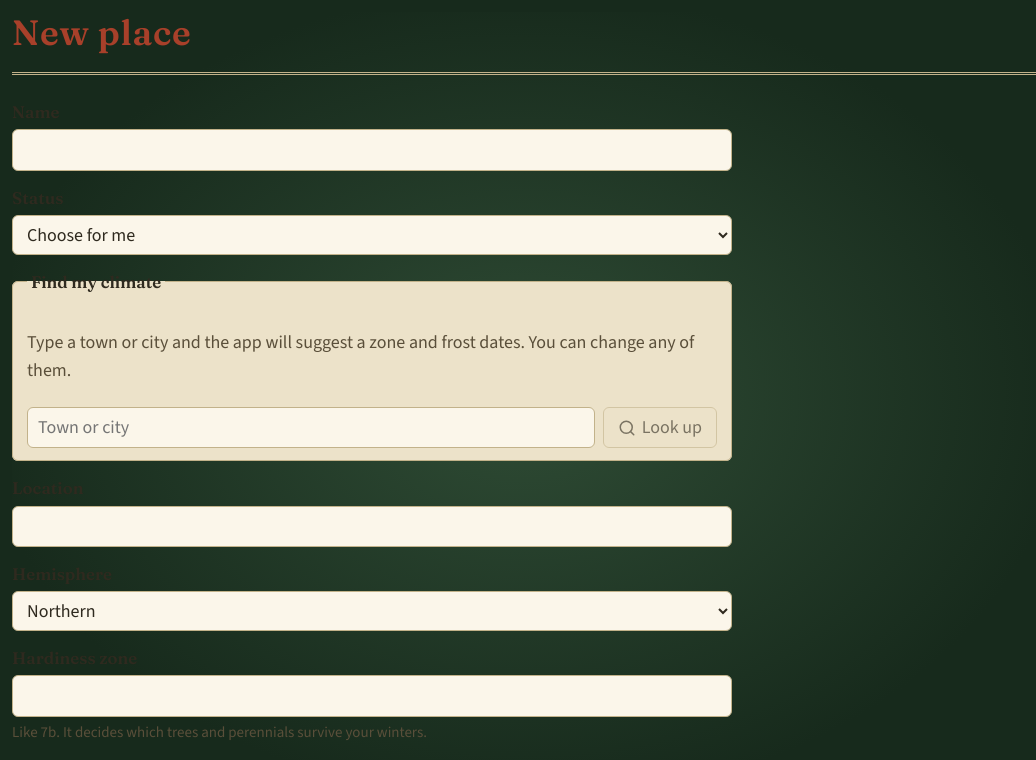
Test case: place form › several results are listed with region and country
Type "Springfield" into the field labelled "Town or city" at {"x": 311, "y": 428}, box [27,407,595,448]
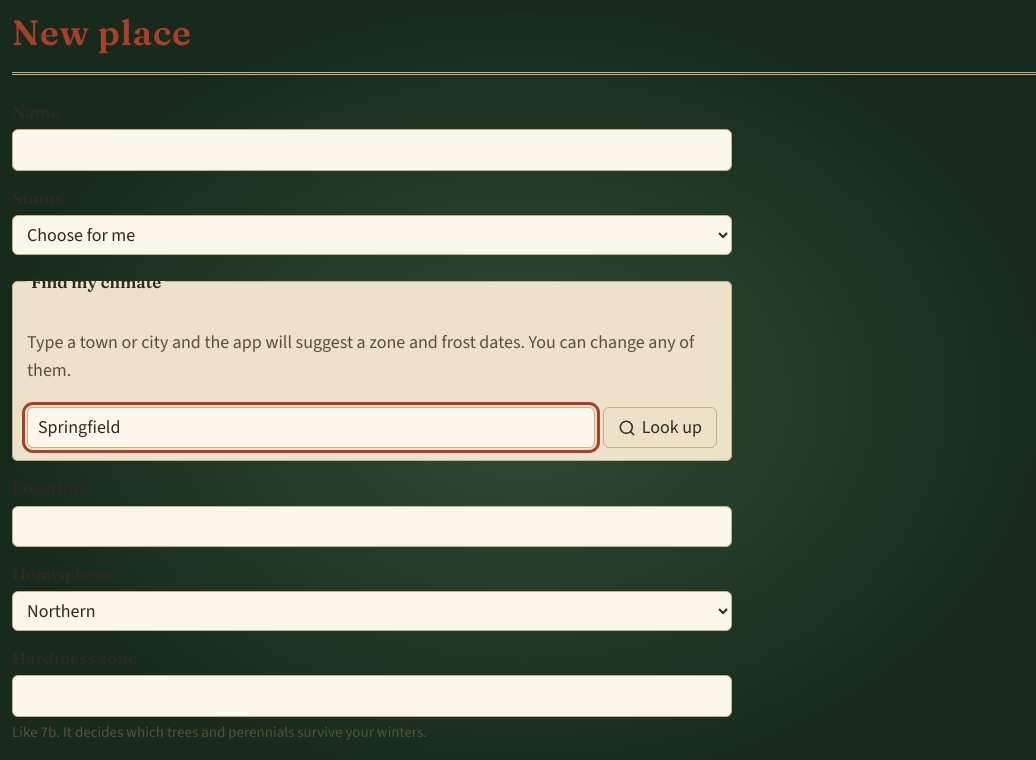
Click the button "Look up" at {"x": 660, "y": 428}, box [603,407,717,448]
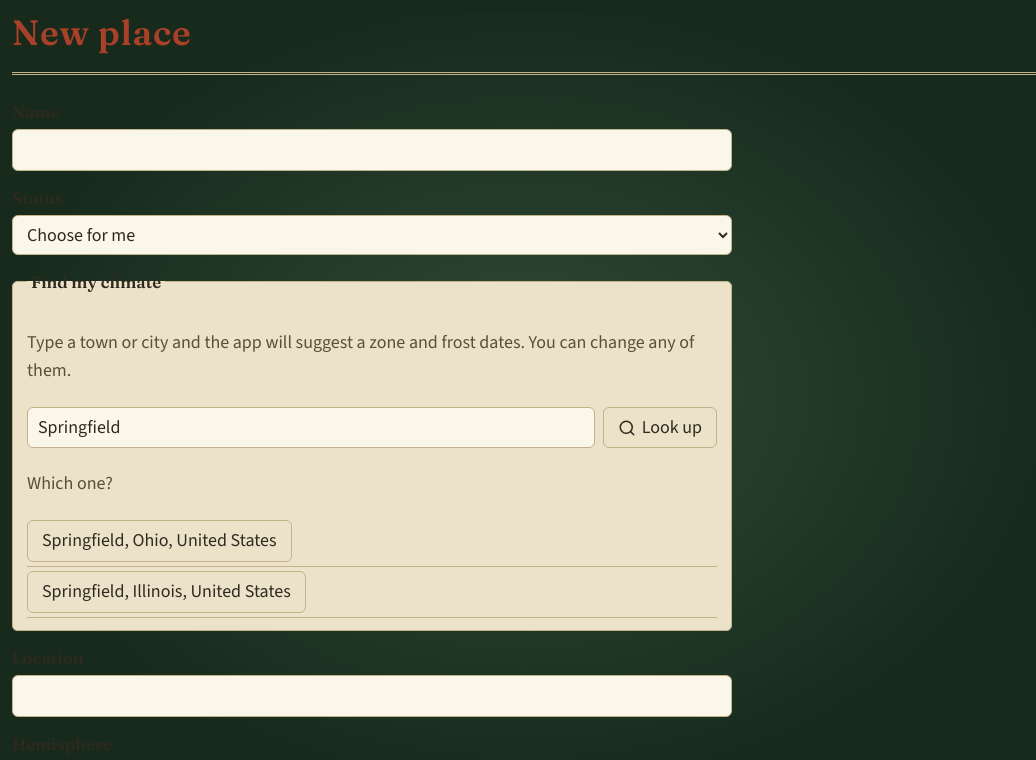
Result: the button "Springfield, Ohio, United States" is shown at [27,520,292,562]
Result: the button "Springfield, Illinois, United States" is shown at [27,571,306,613]
